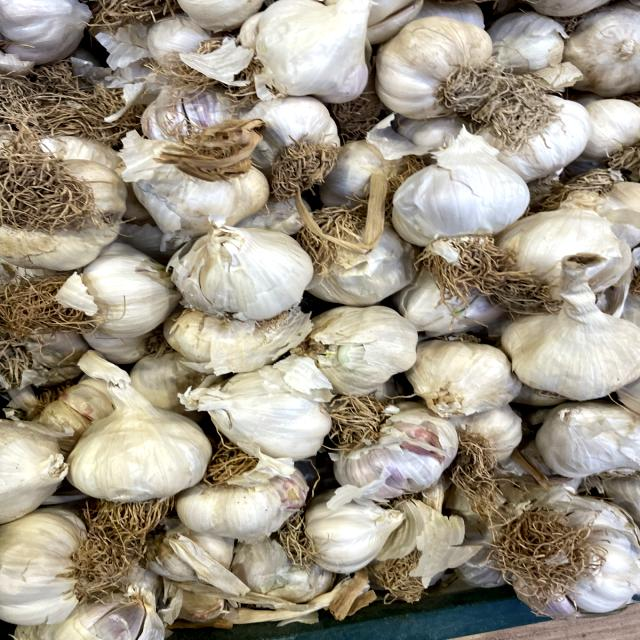garlic: (388, 139, 544, 295), (171, 215, 320, 319)
